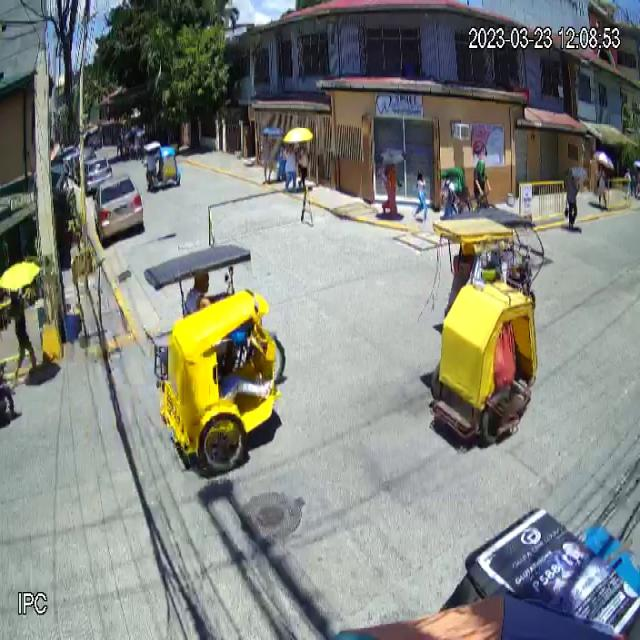Car: (92, 173, 144, 246)
Tricycle: (144, 245, 286, 474)
